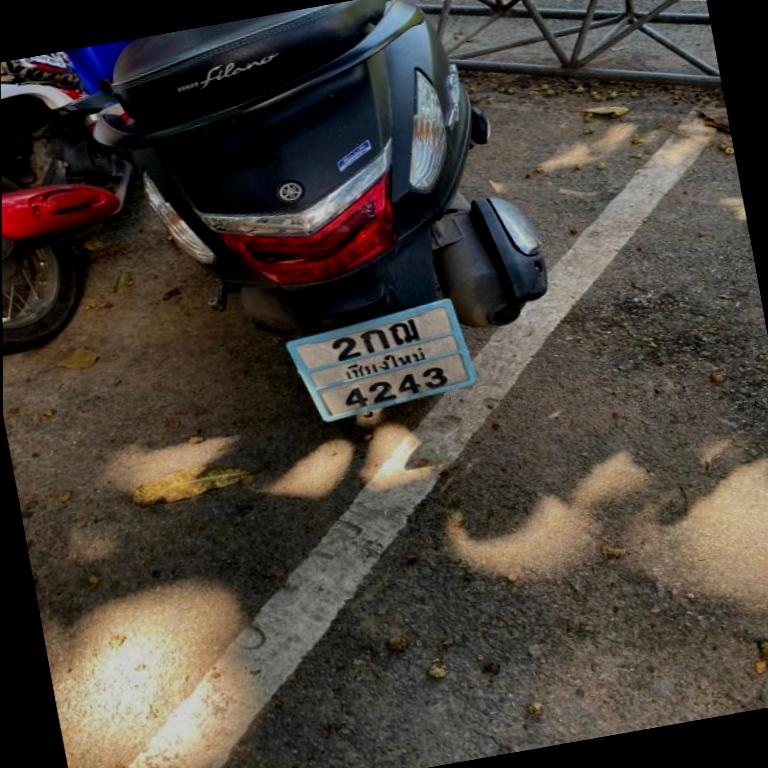license plate: (287, 299, 474, 420)
